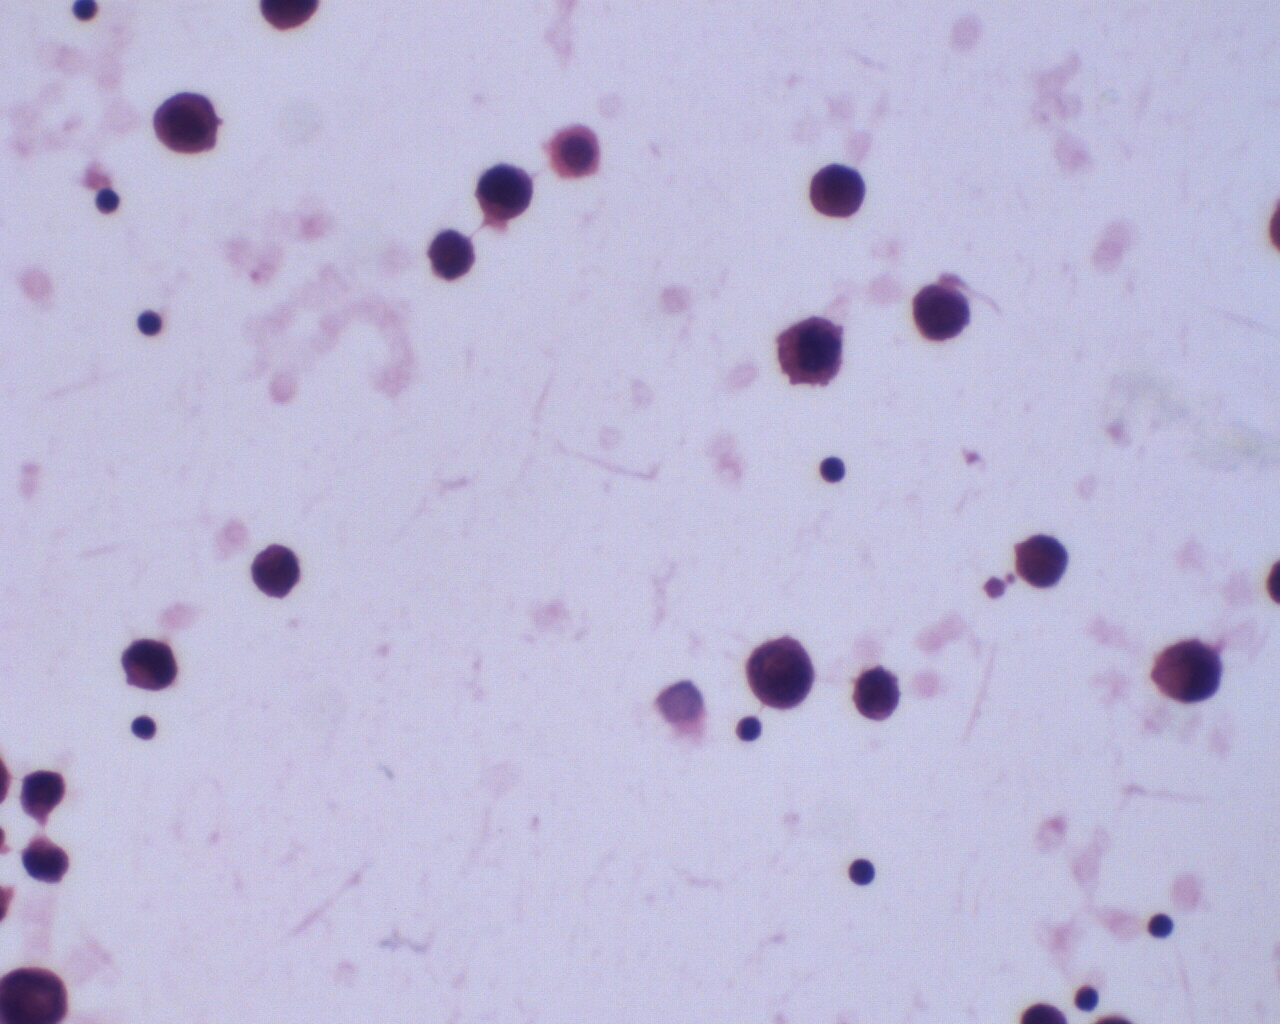ab: (1146, 631, 1223, 709), (745, 632, 817, 711), (774, 313, 846, 390), (152, 89, 220, 157), (908, 281, 972, 347), (807, 161, 870, 225), (472, 163, 539, 224), (118, 635, 183, 696), (850, 665, 904, 724), (251, 541, 303, 601), (17, 769, 69, 822), (21, 835, 70, 885)
lymph: (817, 452, 852, 487), (135, 307, 167, 339), (735, 714, 766, 745), (1072, 982, 1102, 1015), (1145, 911, 1177, 941), (847, 857, 877, 889), (94, 184, 120, 215), (129, 712, 158, 739)
meso: (543, 122, 606, 184)
